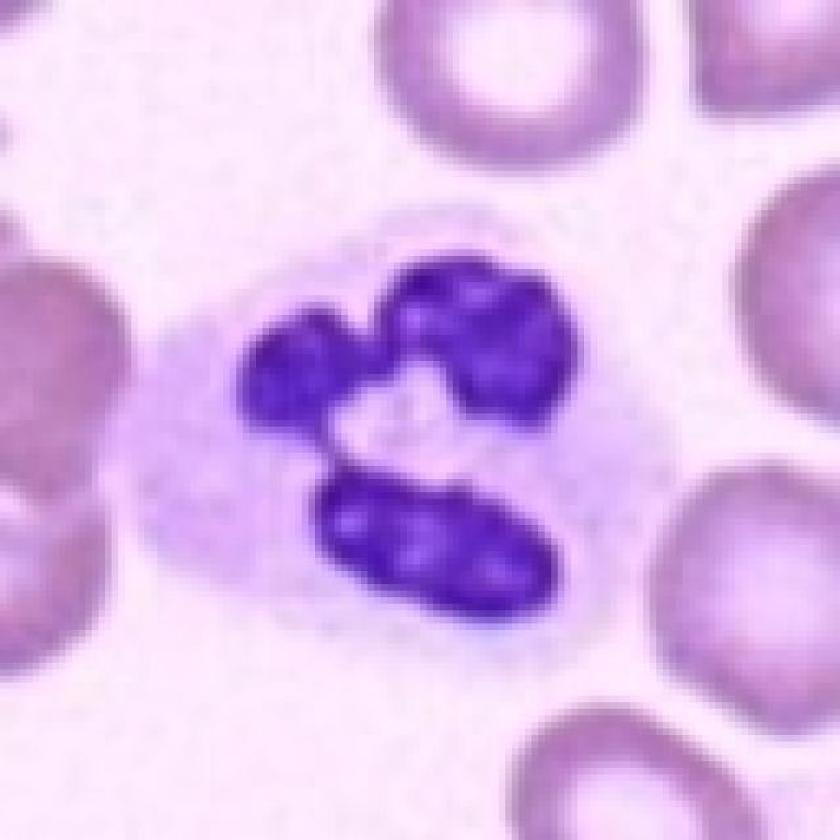neutrophil: (151, 194, 664, 666)
